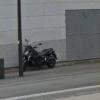Motorcycle: (17, 36, 60, 76)
